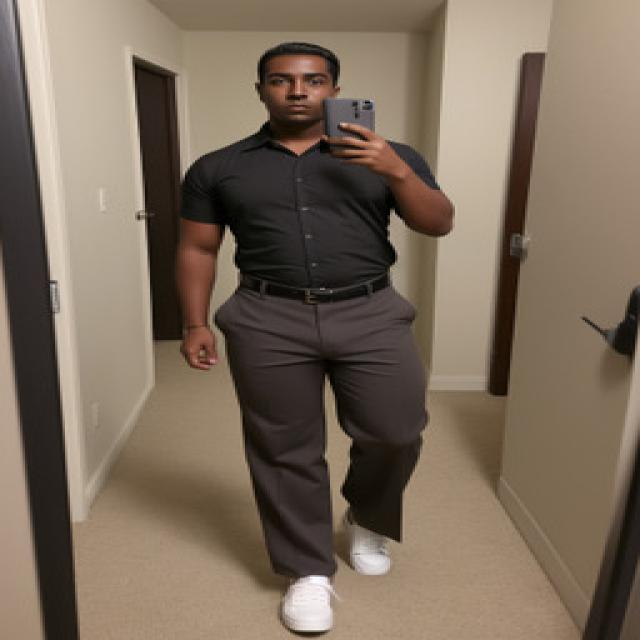Ai human 2: (152, 33, 505, 640)
